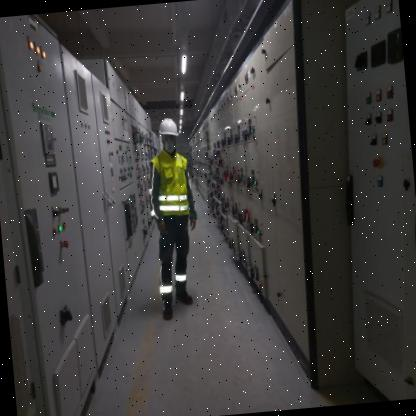bota: (171, 278, 198, 307), (158, 293, 178, 324)
capacete: (152, 111, 182, 140)
